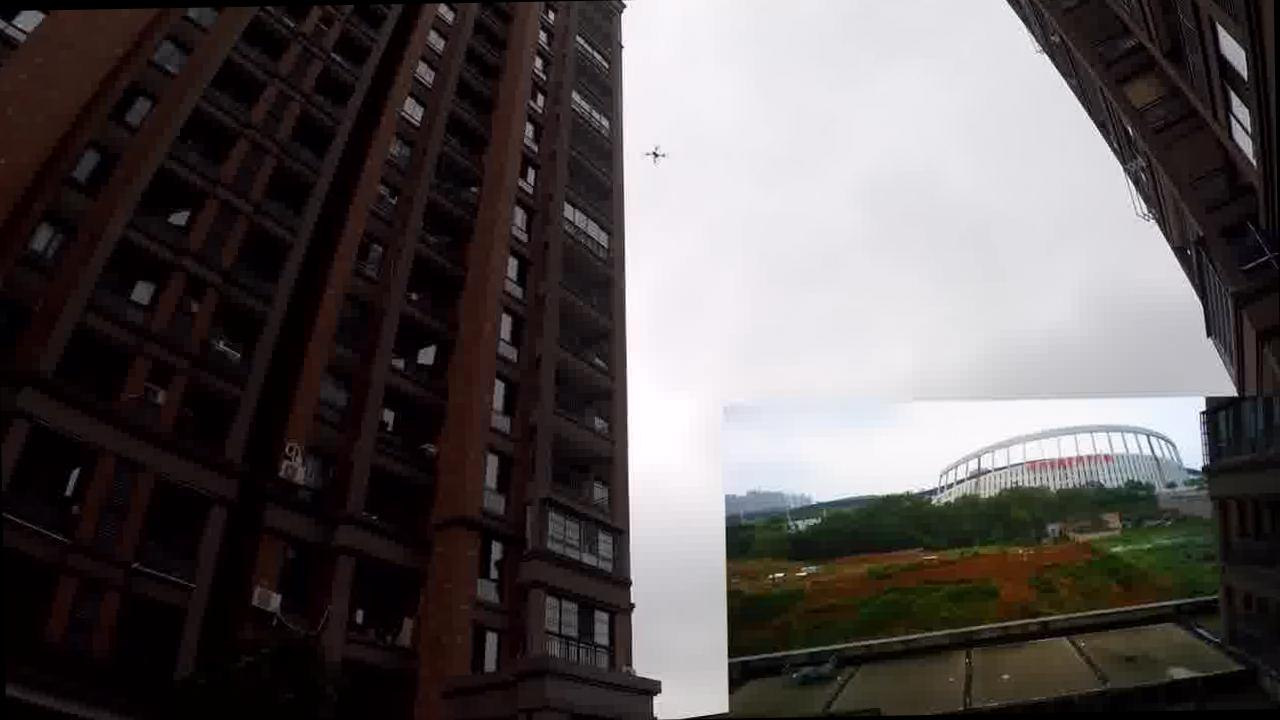drone: (641, 139, 671, 169)
